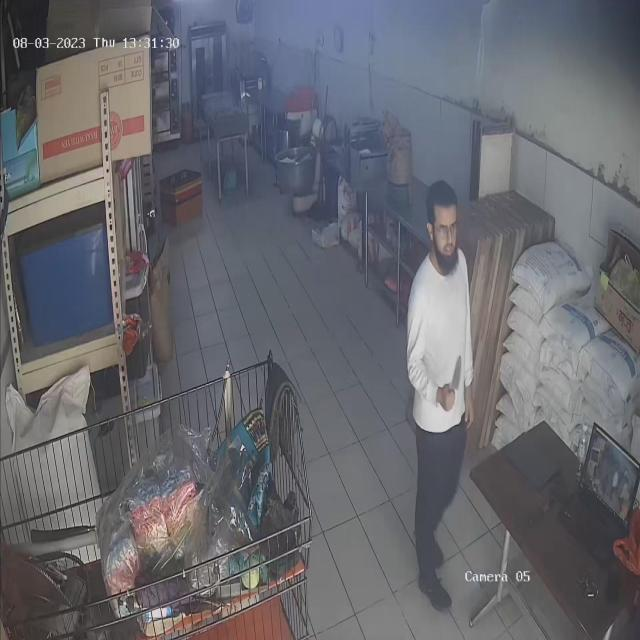Knife: (440, 348, 468, 410)
